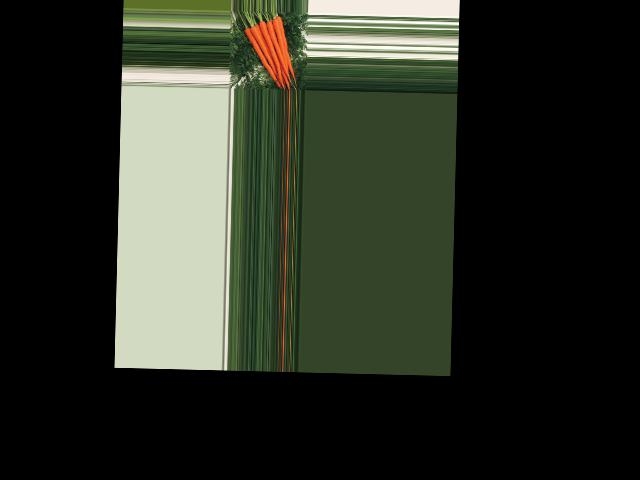carrot: (270, 14, 300, 86)
